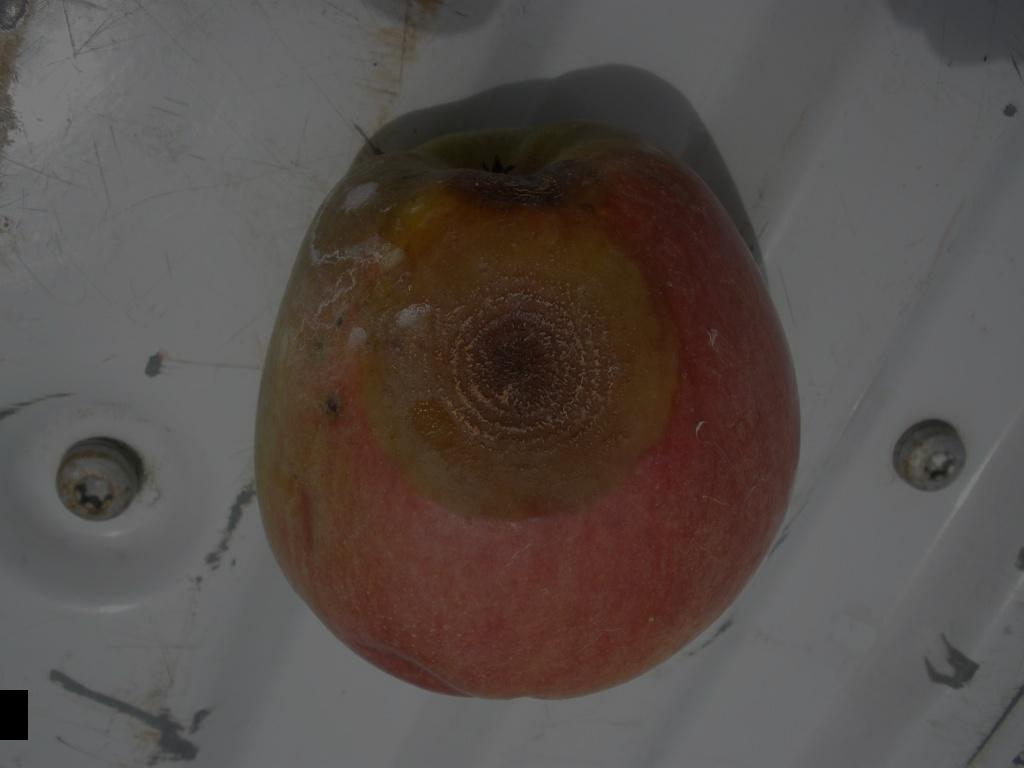rotten apple: (252, 111, 801, 703)
